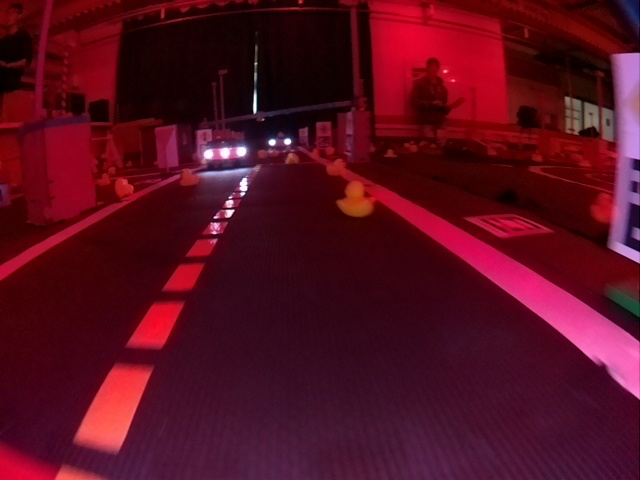Duckie: (338, 181, 374, 216), (115, 179, 134, 196), (327, 159, 346, 176), (180, 169, 194, 183), (285, 152, 298, 160)
Duckiebot: (205, 135, 251, 170), (268, 137, 292, 149)
QR code: (467, 215, 553, 238)
